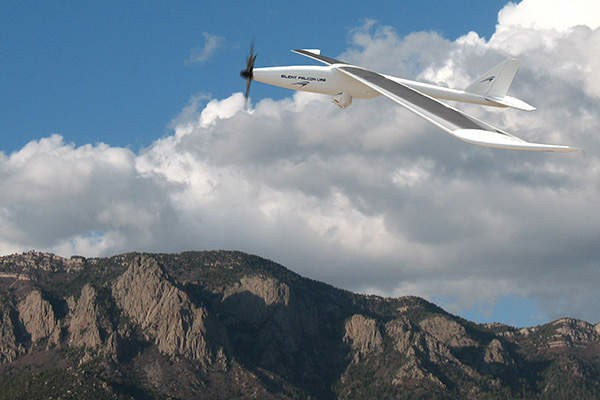maybay_khongnguoilai: (237, 42, 564, 154)
